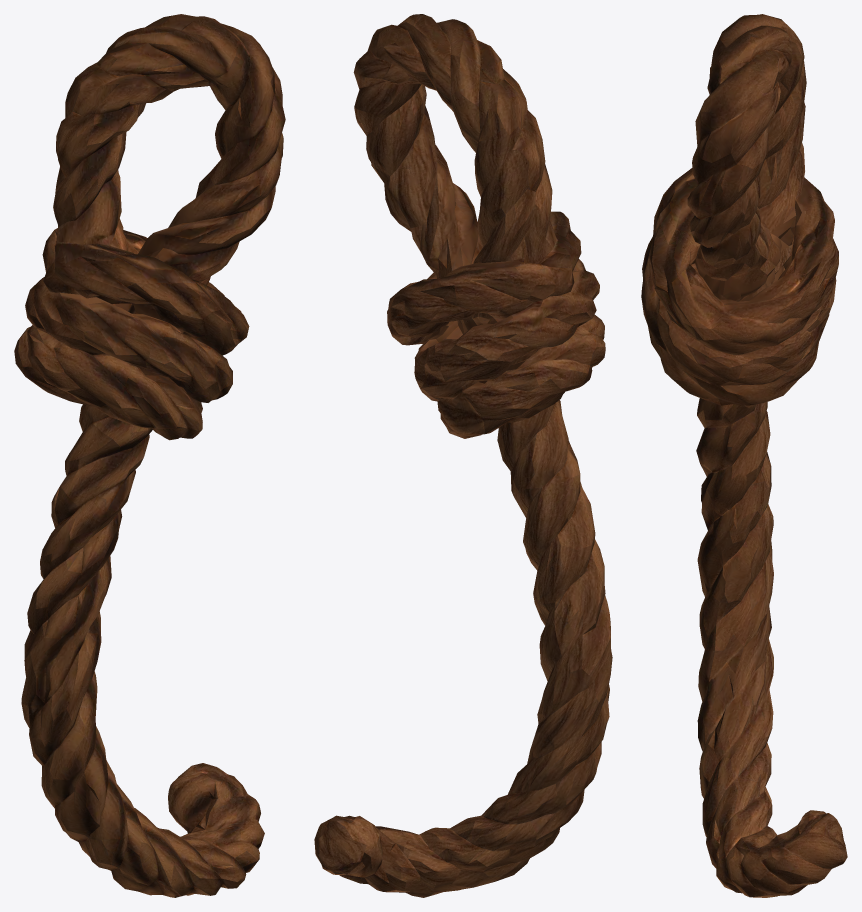
The model's file is tether.glb.
The picture shows the model from 3 angles, left to right: view 1: azimuth 30°, elevation 25°; view 2: azimuth 150°, elevation 25°; view 3: azimuth 270°, elevation 25°; orthographic projection. The views are drawn at different scales.
Parts seen in each view (by area): view 1: mesh_node; view 2: mesh_node; view 3: mesh_node.
Part boxes in pixels (x1,y1,x2,y2): mesh_node: (14, 14, 285, 897); mesh_node: (314, 14, 612, 897); mesh_node: (641, 14, 847, 897).
Bounding box in the file's own units: 0.5877 × 1.9 × 0.4176.
Materials: 1 (1 with a texture image).
